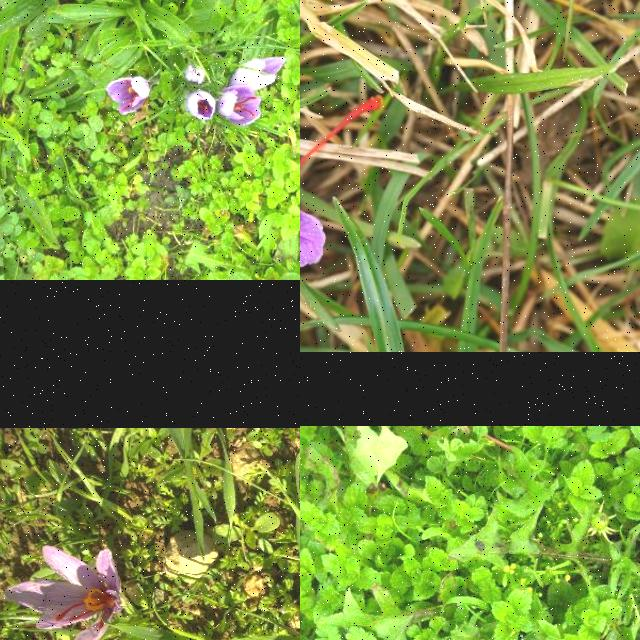flower: (300, 93, 381, 352), (5, 546, 124, 640), (230, 57, 288, 91), (218, 85, 262, 127), (108, 76, 150, 115), (186, 94, 218, 122), (185, 65, 208, 85)
